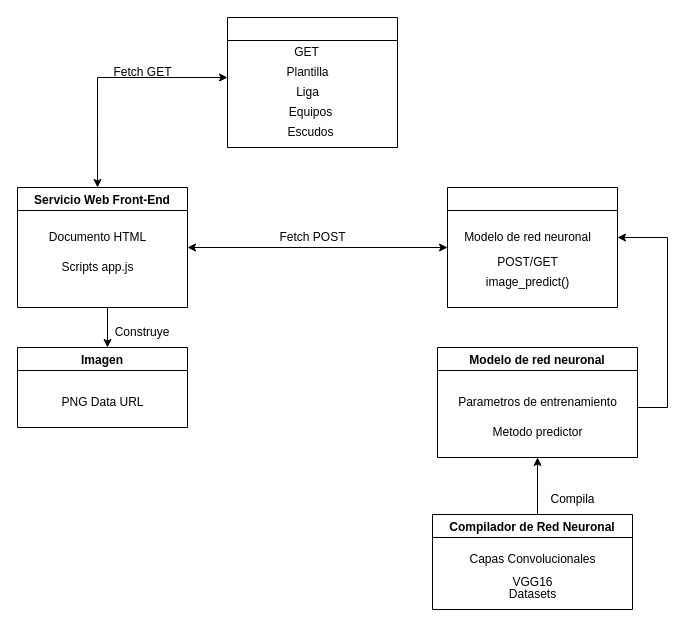
The diagram is 693 pixels wide and 627 high, and some of its shapes have lost their labels. The shapes that lost their labels are listed below. From the top down, each one's box as (x1, y1, x2, y2) in pixels, then its label:
(226, 16, 398, 148): Servicio API Externo
(446, 186, 618, 308): Servicio Web Back-End
